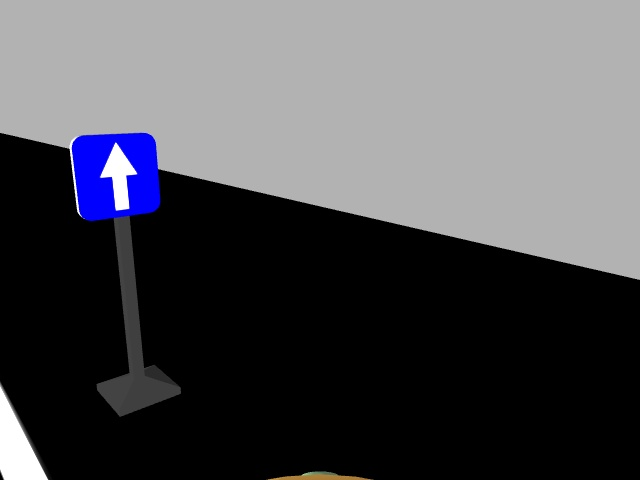OneWay: (68, 133, 166, 222)
